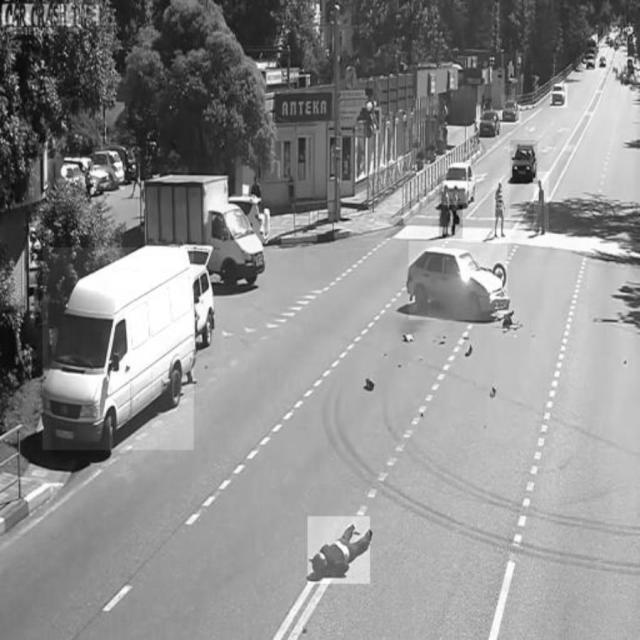person: (308, 516, 370, 583), (439, 175, 463, 239), (493, 179, 510, 243), (535, 171, 550, 239)
vehicle: (43, 248, 194, 450), (148, 177, 264, 285), (409, 242, 507, 320), (443, 161, 478, 206), (94, 148, 126, 190), (511, 140, 538, 184), (477, 103, 502, 140), (502, 95, 522, 123), (551, 76, 568, 106)
